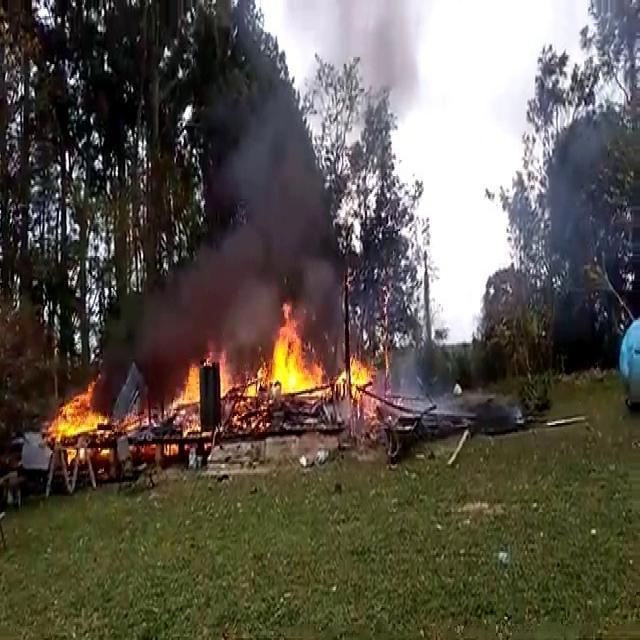Fire: (164, 343, 260, 451), (256, 294, 326, 410), (41, 377, 120, 463), (336, 346, 377, 424)
Smoke: (143, 52, 389, 374), (505, 91, 640, 362)
